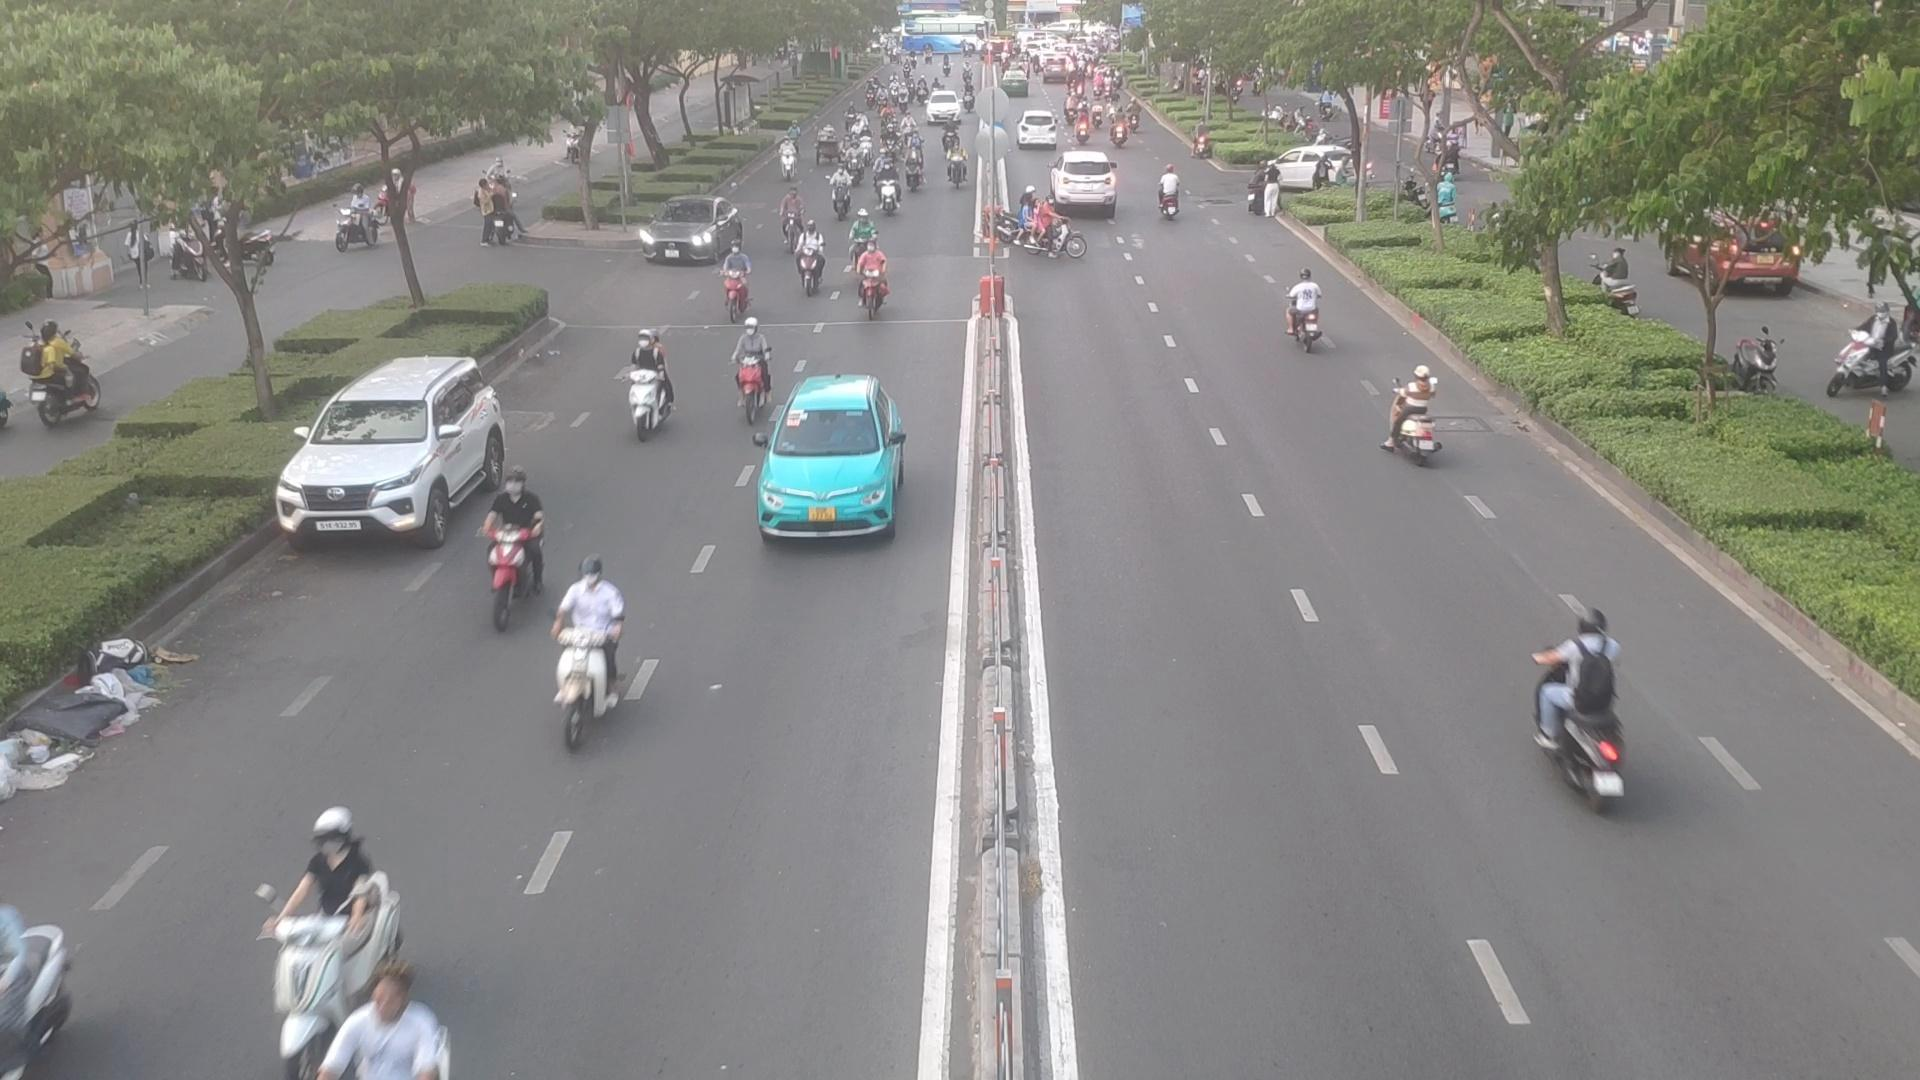car: (276, 360, 510, 551), (753, 373, 872, 546), (634, 196, 745, 265), (1263, 142, 1358, 193), (1054, 152, 1124, 208)
motorbike: (274, 802, 397, 1076), (1538, 603, 1639, 816), (551, 566, 622, 740), (481, 483, 531, 630), (1385, 371, 1458, 465), (618, 326, 669, 451), (1015, 195, 1091, 255), (1280, 272, 1320, 353), (735, 314, 766, 396), (858, 236, 889, 313), (1156, 167, 1185, 233), (799, 222, 825, 291), (727, 243, 746, 316), (828, 165, 853, 223), (775, 135, 802, 183), (849, 210, 873, 264), (781, 189, 800, 243), (878, 164, 897, 212), (903, 142, 923, 187), (945, 142, 965, 186)
